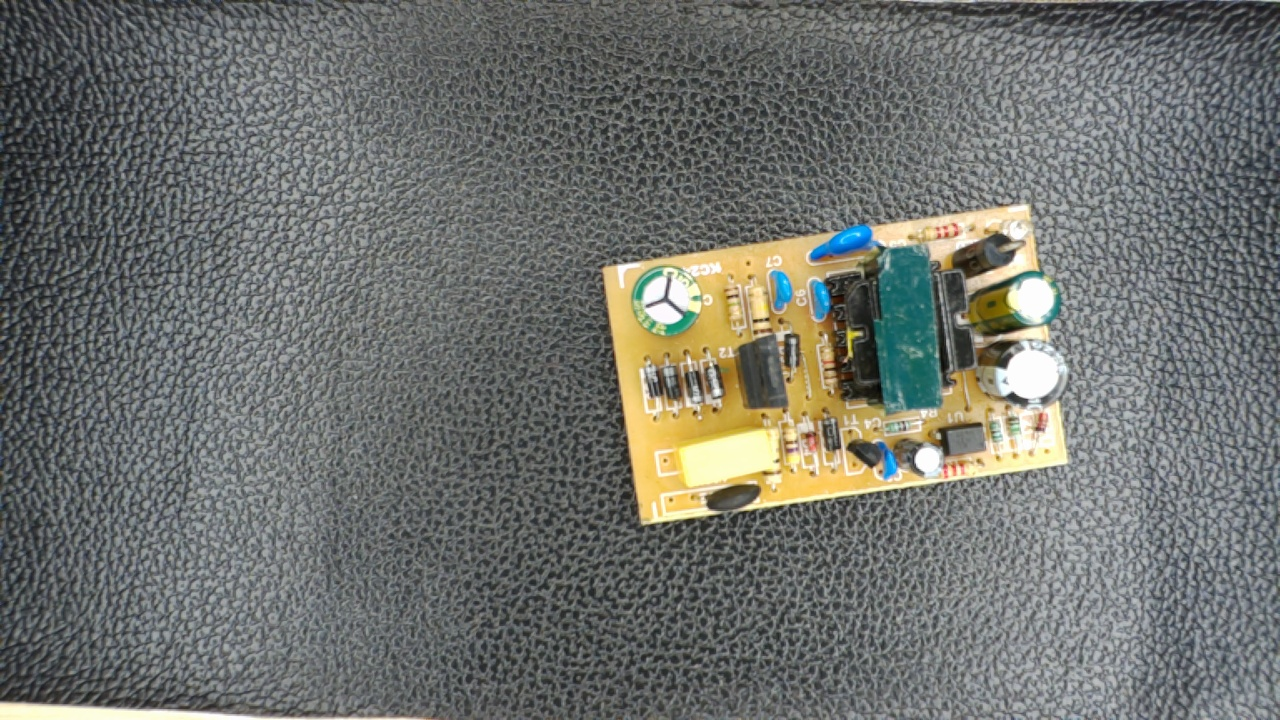fuse: (696, 483, 768, 512)
hv_capacitor: (633, 269, 707, 339)
mov: (803, 227, 893, 266)
optocoupler: (935, 419, 995, 458)
